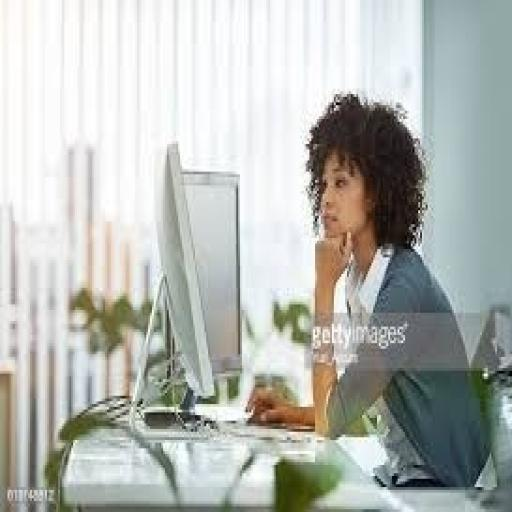sitting: (246, 88, 495, 490)
